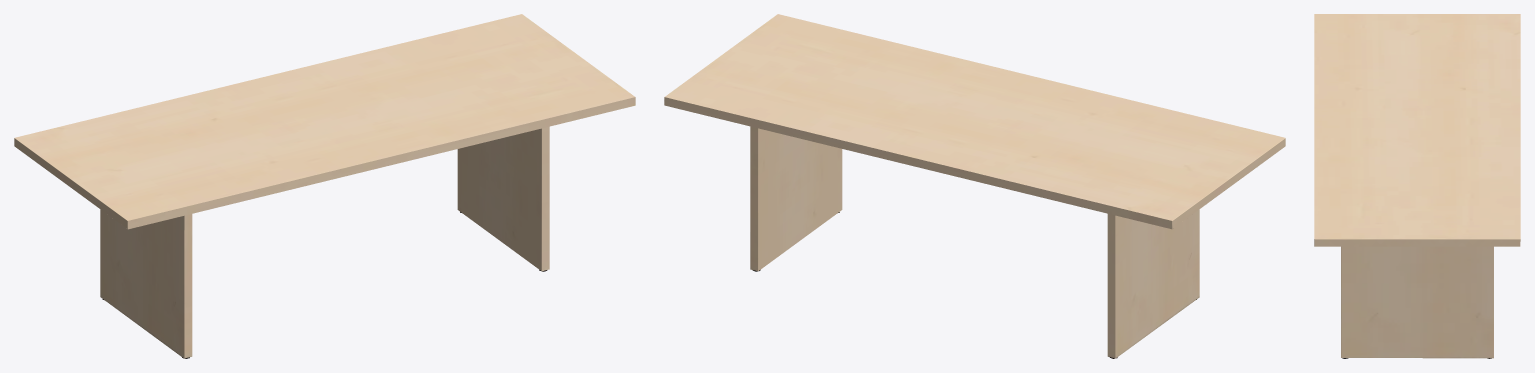
3 renders of one model, left to right at view 1: azimuth 30°, elevation 25°; view 2: azimuth 150°, elevation 25°; view 3: azimuth 270°, elevation 25°, orthographic. The views are drawn at different scales.
Visible parts, largest first — view 1: ASY_ART_50601650_S01_NV01; view 2: ASY_ART_50601650_S01_NV01; view 3: ASY_ART_50601650_S01_NV01.
Boxes of the visible parts, x1,y1,x2,y2 form: ASY_ART_50601650_S01_NV01: (14,14,635,358); ASY_ART_50601650_S01_NV01: (664,14,1285,358); ASY_ART_50601650_S01_NV01: (1314,14,1520,358).
Bounding box in the file's own units: 2.4 × 0.7539 × 0.9286.
1 material, 1 textured.
